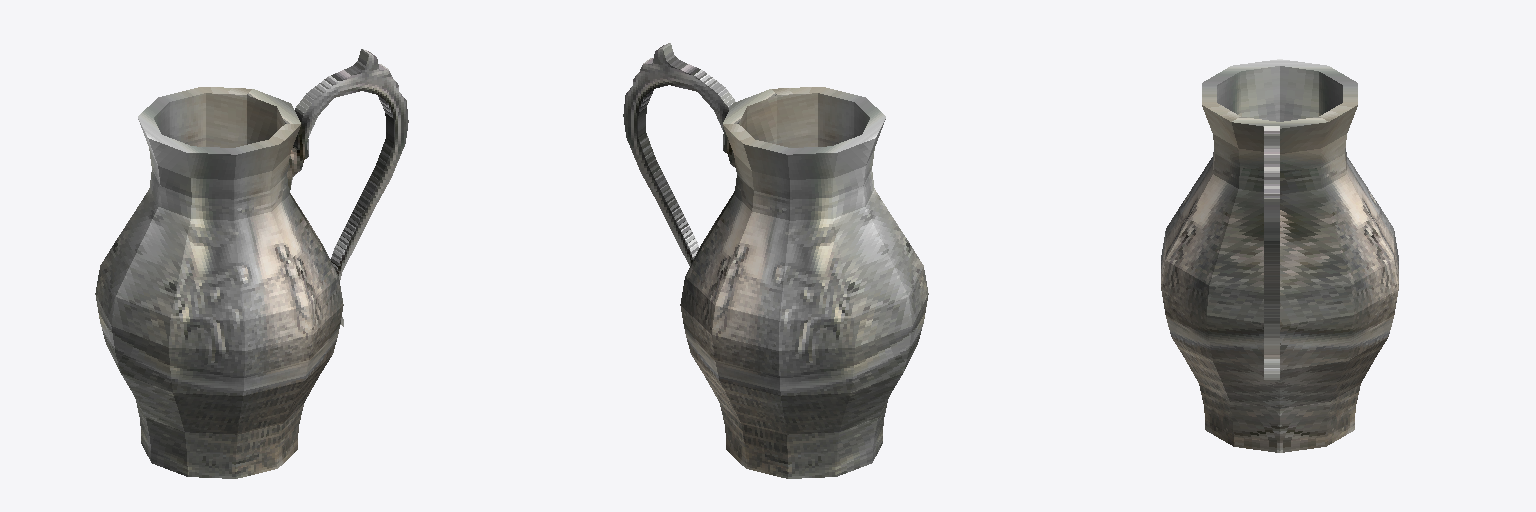
The picture shows the model from 3 angles: view 1: azimuth 30°, elevation 25°; view 2: azimuth 150°, elevation 25°; view 3: azimuth 270°, elevation 25°; orthographic projection.
Parts seen in each view (by area): view 1: silver_jug; view 2: silver_jug; view 3: silver_jug.
Part boxes in pixels (x1,y1,x2,y2): silver_jug: (95, 49, 408, 478); silver_jug: (623, 43, 928, 478); silver_jug: (1161, 59, 1398, 452).
Bounding box in the file's own units: 0.3792 × 0.4552 × 0.2697.
1 materials, 1 textured.